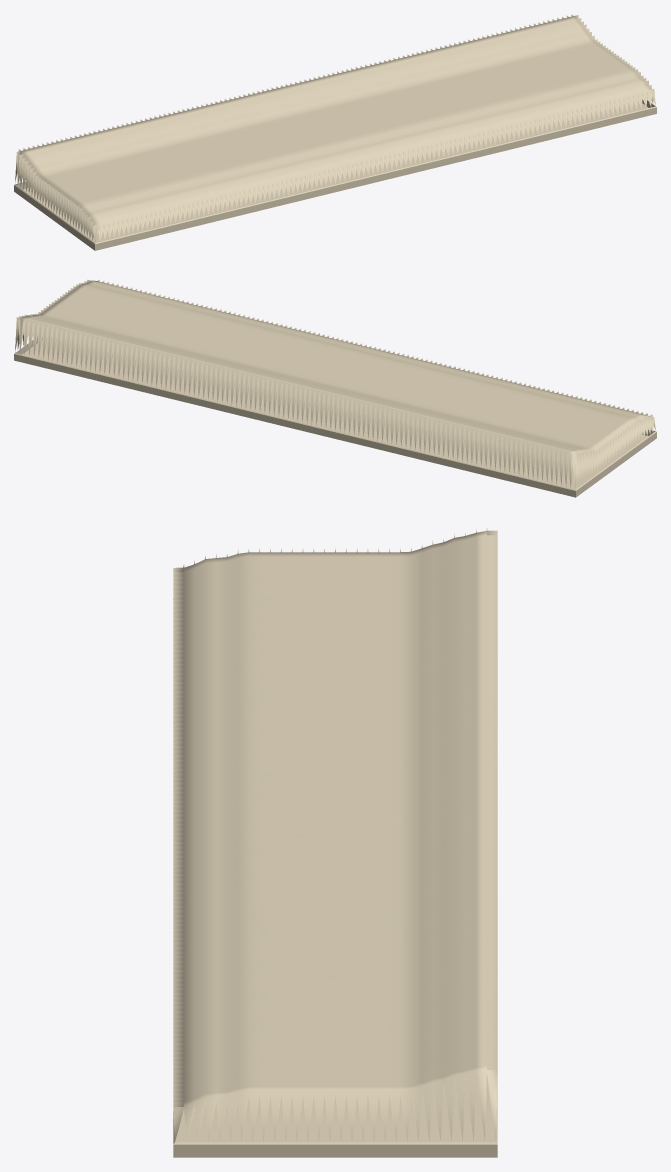
The model's file is mahsulot.glb.
The picture shows the model from 3 angles, top to bottom: view 1: azimuth 30°, elevation 25°; view 2: azimuth 150°, elevation 25°; view 3: azimuth 270°, elevation 25°; orthographic projection. The views are drawn at different scales.
Visible parts, largest first — view 1: mahsulot; view 2: mahsulot; view 3: mahsulot.
Boxes of the visible parts, box(x1,y1,x2,y2) form: mahsulot: box(14, 14, 656, 250); mahsulot: box(14, 279, 656, 497); mahsulot: box(173, 528, 497, 1157).
Bounding box in the file's own units: 1.2 × 0.0851 × 0.3.
